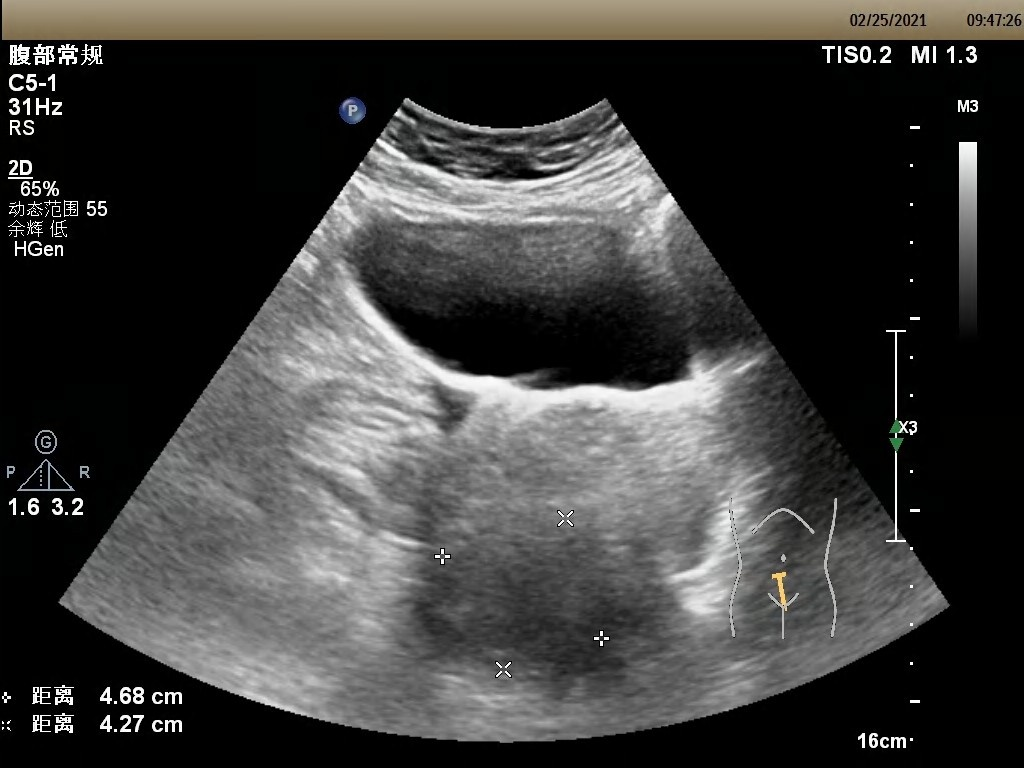肌瘤: (448, 533, 604, 663)
